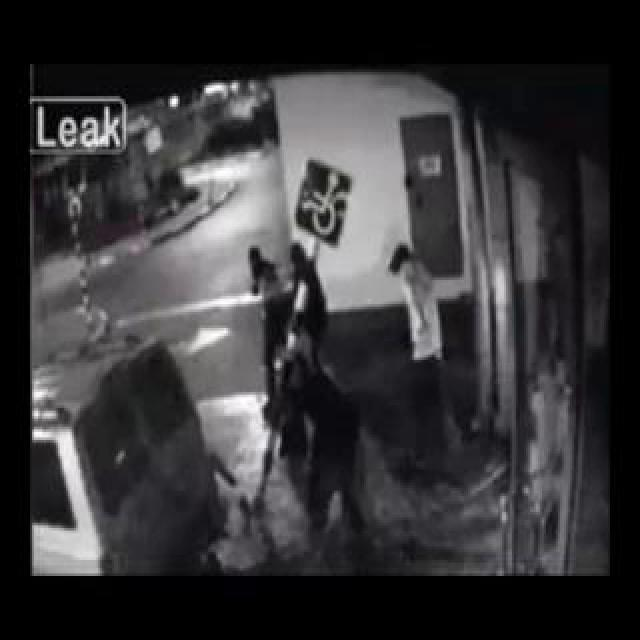burglary: (137, 39, 439, 565)
